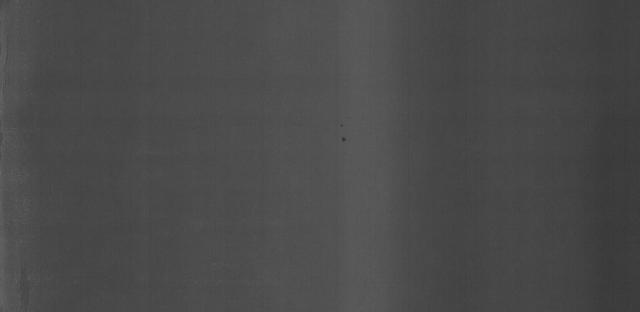silk_spot: (335, 119, 356, 147)
water_spot: (11, 257, 40, 311)
